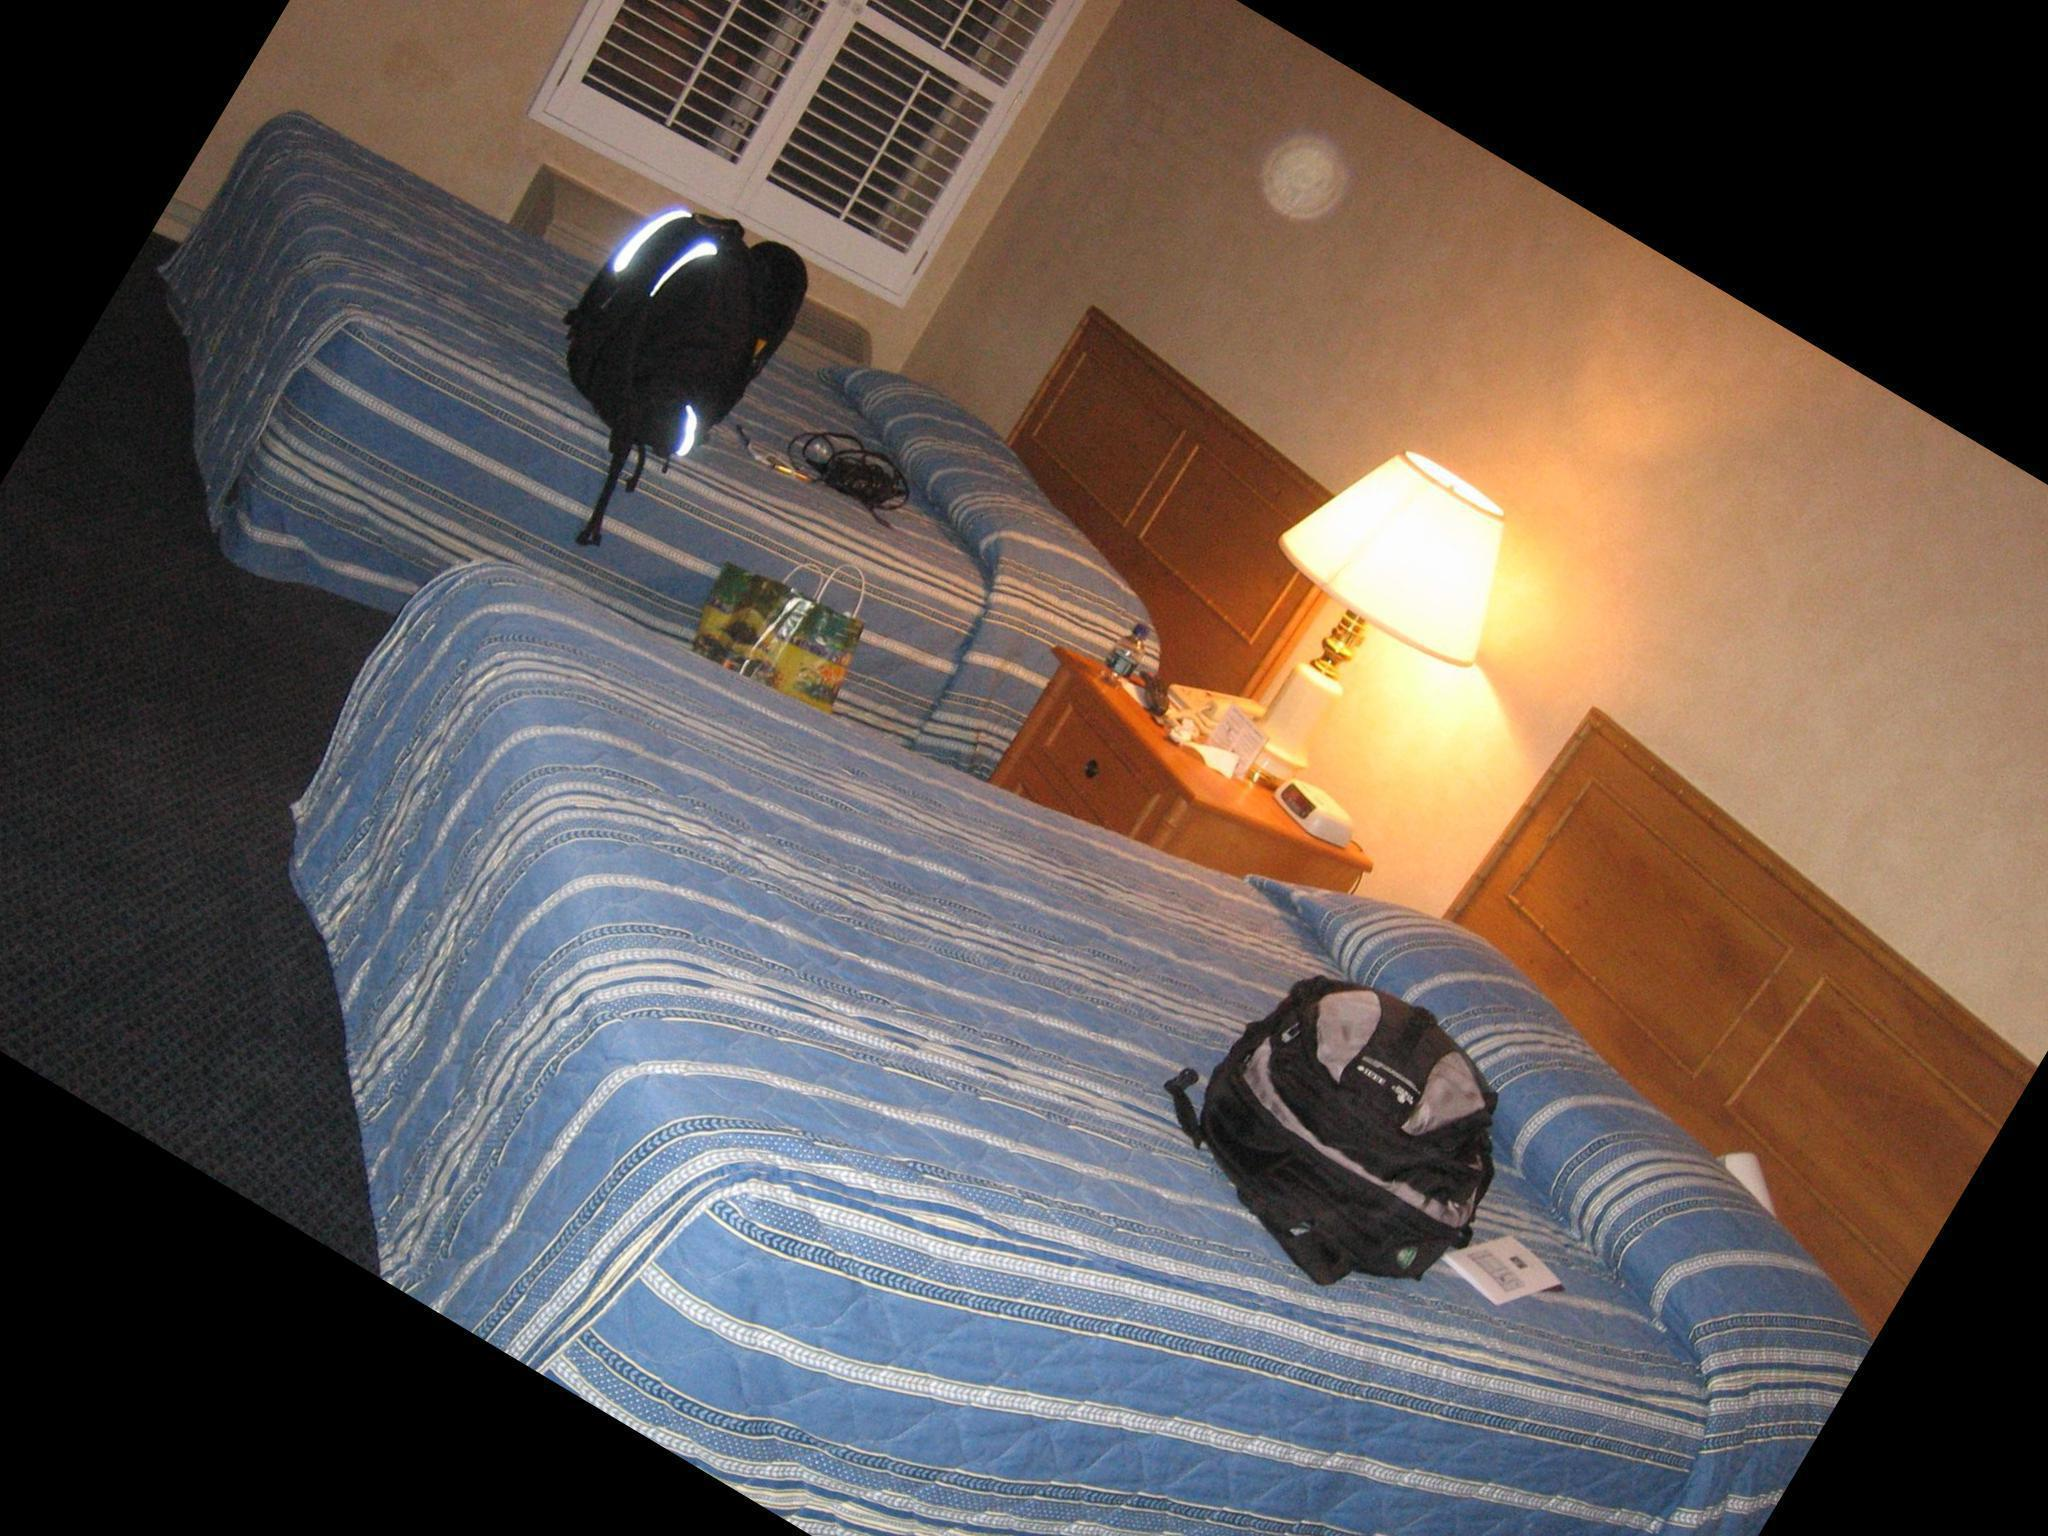Otro Obstaculo: (1126, 900, 1592, 1349), (511, 171, 834, 507), (664, 499, 914, 745)
